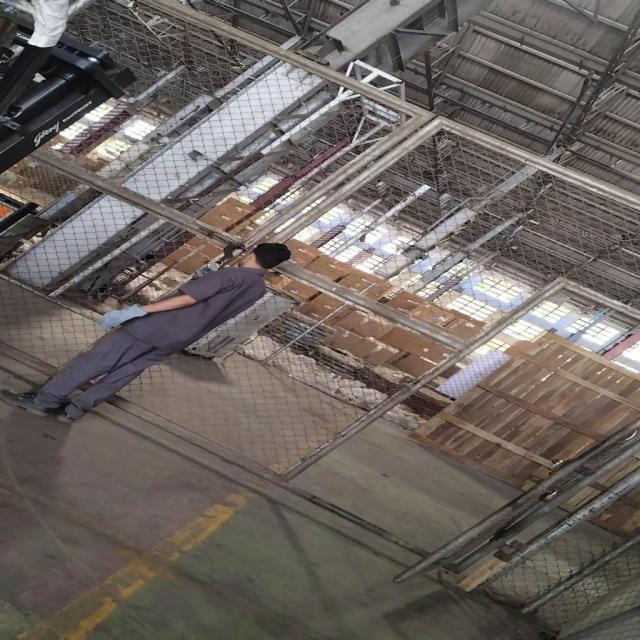Gloves-Detection: (101, 298, 144, 328)
